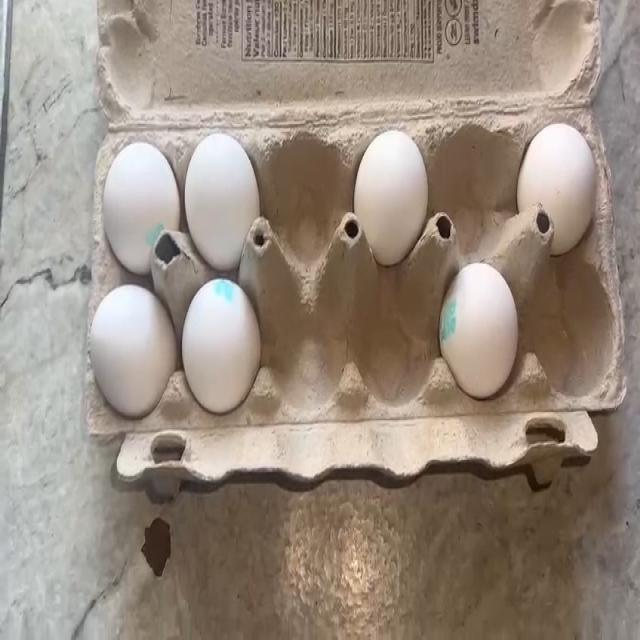Egg: (516, 124, 596, 256), (188, 288, 267, 411), (350, 130, 436, 237), (450, 278, 528, 388), (100, 140, 170, 256), (188, 139, 259, 250), (91, 302, 166, 404)
